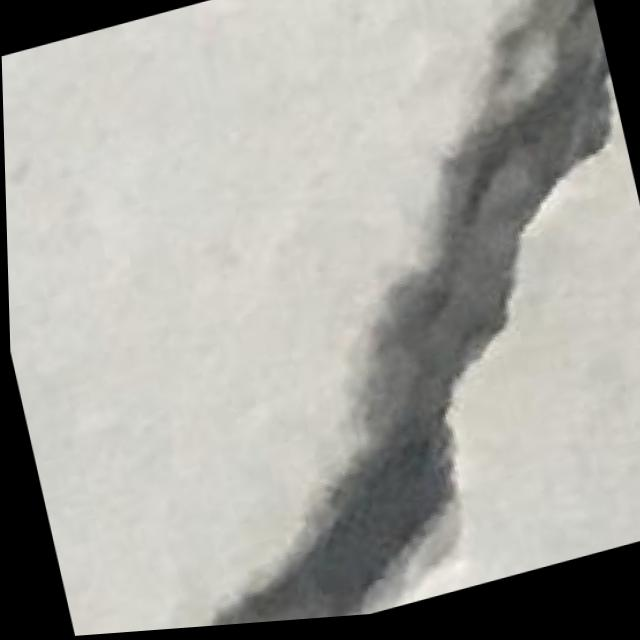Crack: (41, 0, 640, 638)
